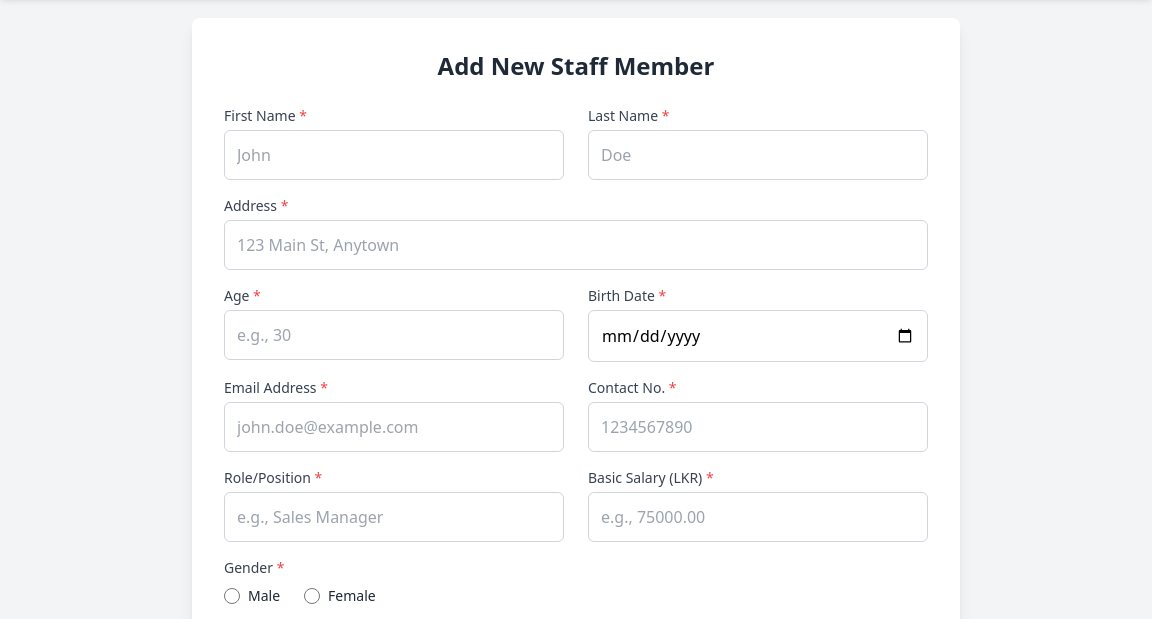
it: Staff Page - Add Staff Form › should display validation error for birth date year 2005 or later
Type "2005-01-01" into the date field named "birthDate".
click(758, 336); type("2005-01-01")  # box [588,310,928,362]
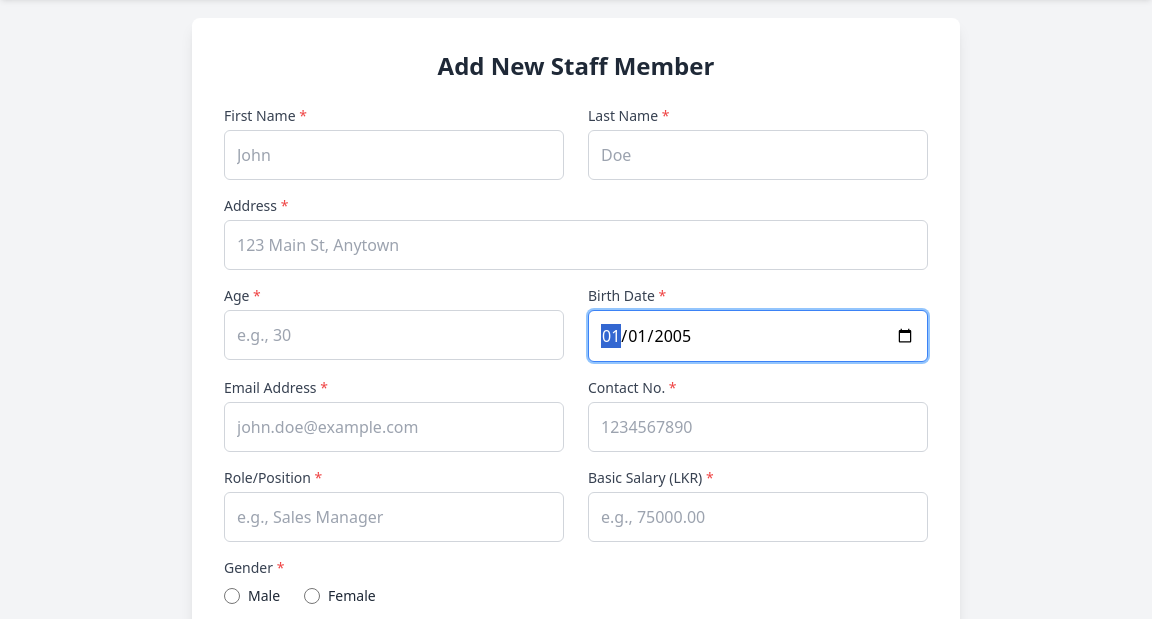
Scroll
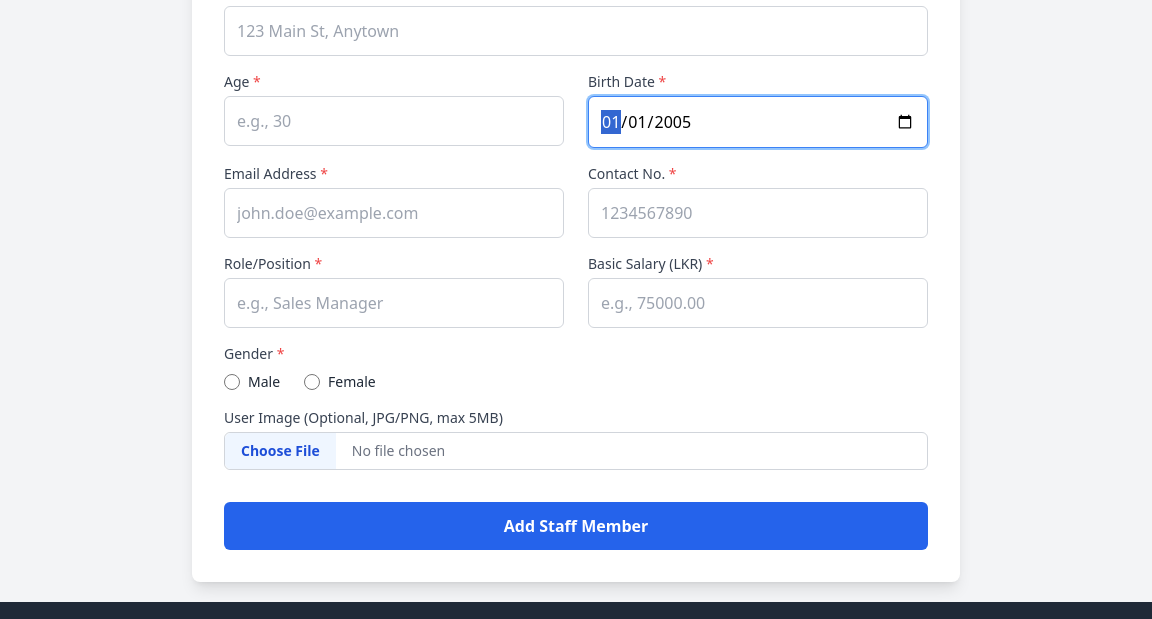
Click the submit button.
click(576, 526)  # box [224,502,928,550]
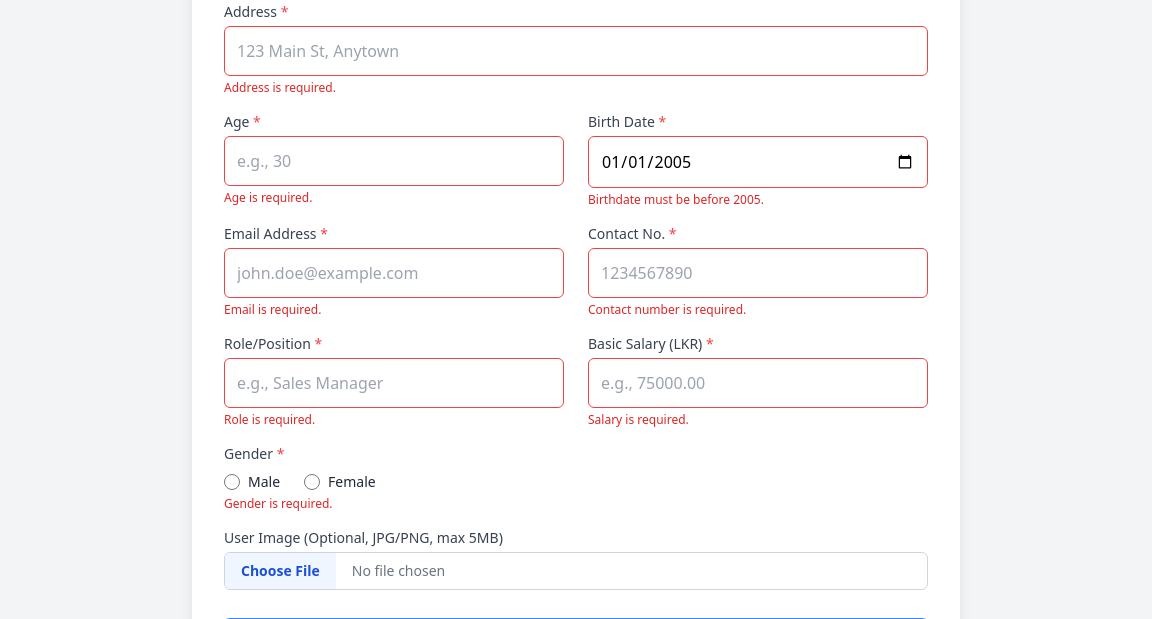
Result: the text "Birthdate must be before 2005." is shown at [588,191,764,208]
